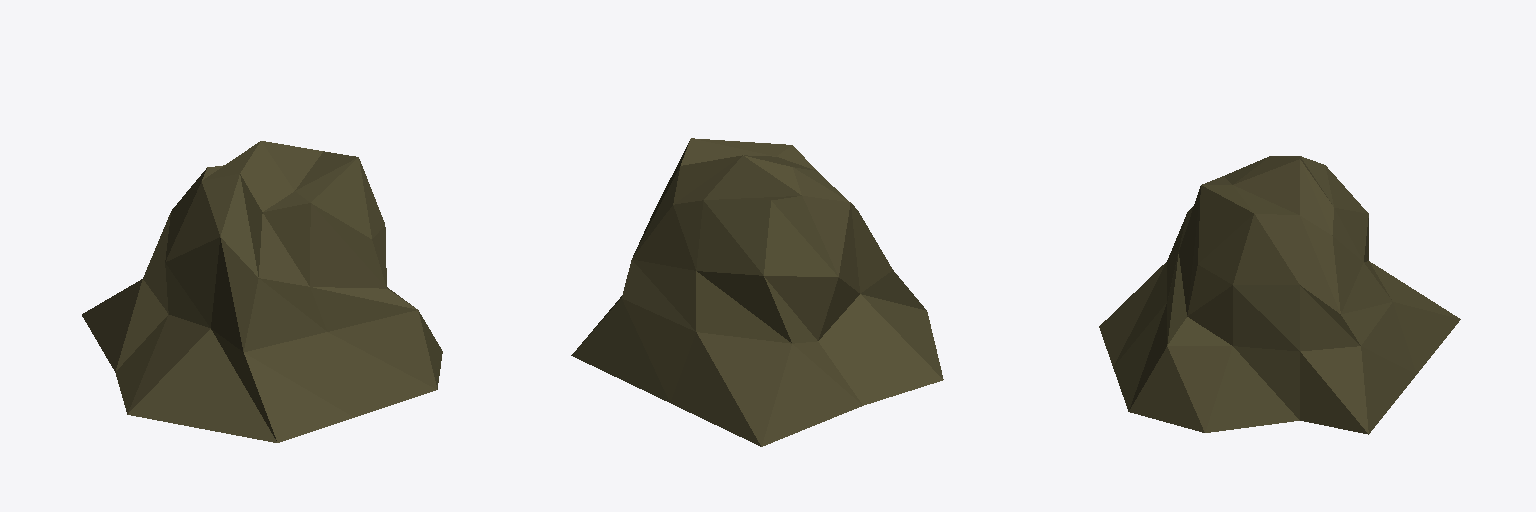
Rendered from LProck2.obj.
The picture shows the model from 3 angles: view 1: azimuth 30°, elevation 25°; view 2: azimuth 150°, elevation 25°; view 3: azimuth 270°, elevation 25°; orthographic projection.
Visible parts, largest first — view 1: Cube_Cube.001; view 2: Cube_Cube.001; view 3: Cube_Cube.001.
Boxes of the visible parts, box(x1,y1,x2,y2) form: Cube_Cube.001: box(82, 141, 442, 442); Cube_Cube.001: box(571, 138, 943, 446); Cube_Cube.001: box(1099, 156, 1460, 434).
Bounding box in the file's own units: 3.49 × 2.28 × 3.59.